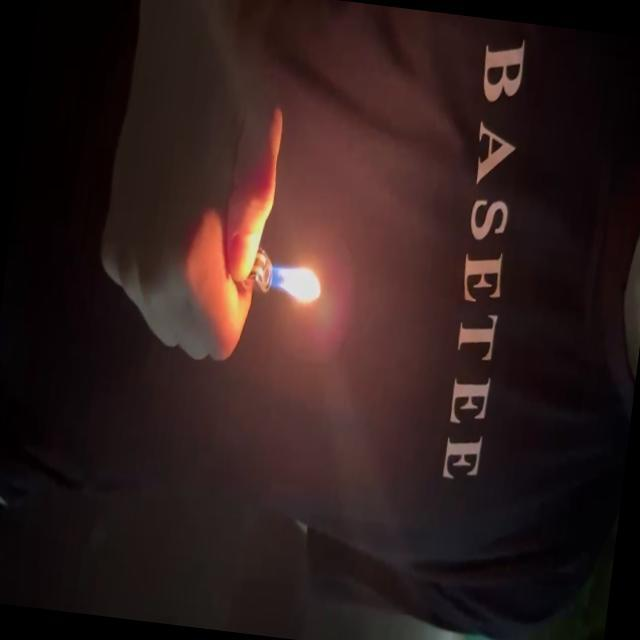Fire: (261, 258, 325, 314)
